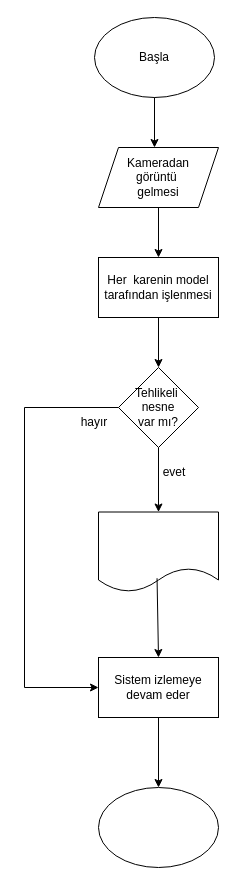
Image size: 236x885. Some labels were removed from this diagram. The box of each missing label's shape, as (x1, y1, x2, y2) in pixels:
Bitti: (98, 786, 218, 868)
Uyarı - bildirim sistemi aktif: (98, 511, 218, 592)
